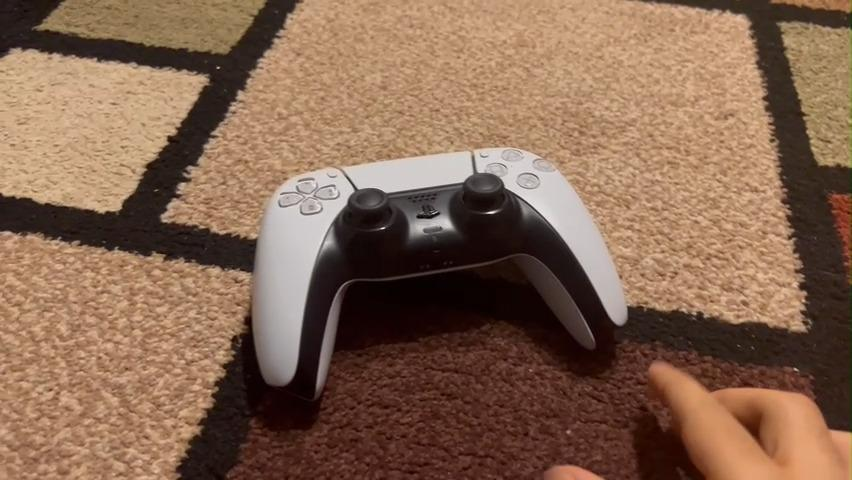controller: (228, 141, 637, 409)
